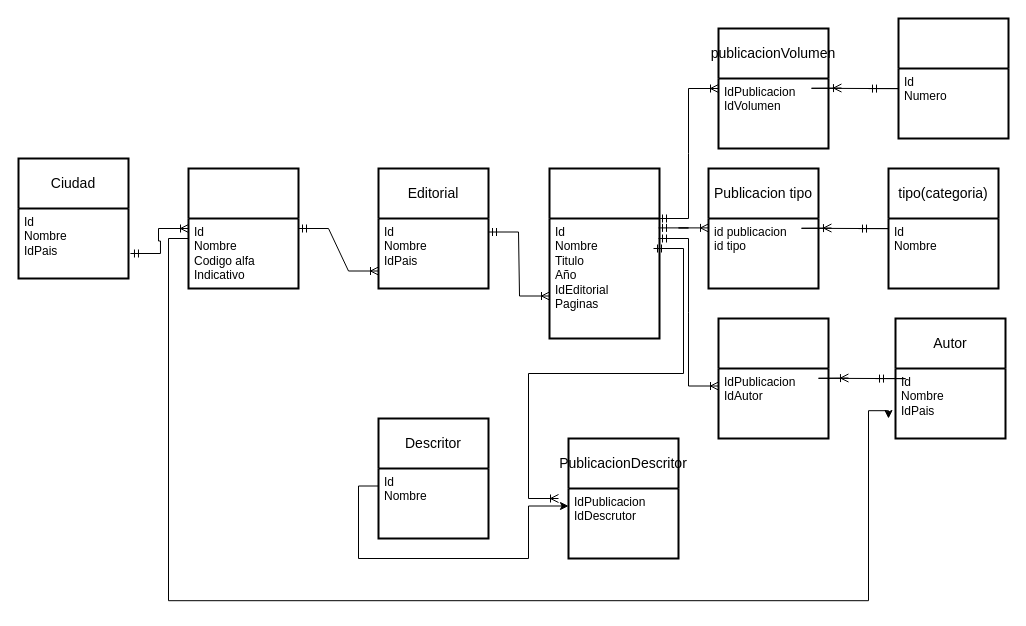
Some shapes in this 1026 by 626 pixel diagram are drawn without their labels. Each missing label, with the box of its shape:
pais: (187, 167, 299, 289)
Publicacion: (548, 167, 660, 339)
publicacionAutor: (717, 317, 829, 439)
Volumen: (897, 17, 1009, 139)
